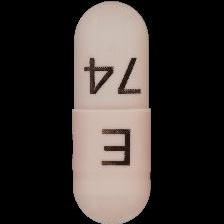69189-0529: (0, 0, 224, 224)
